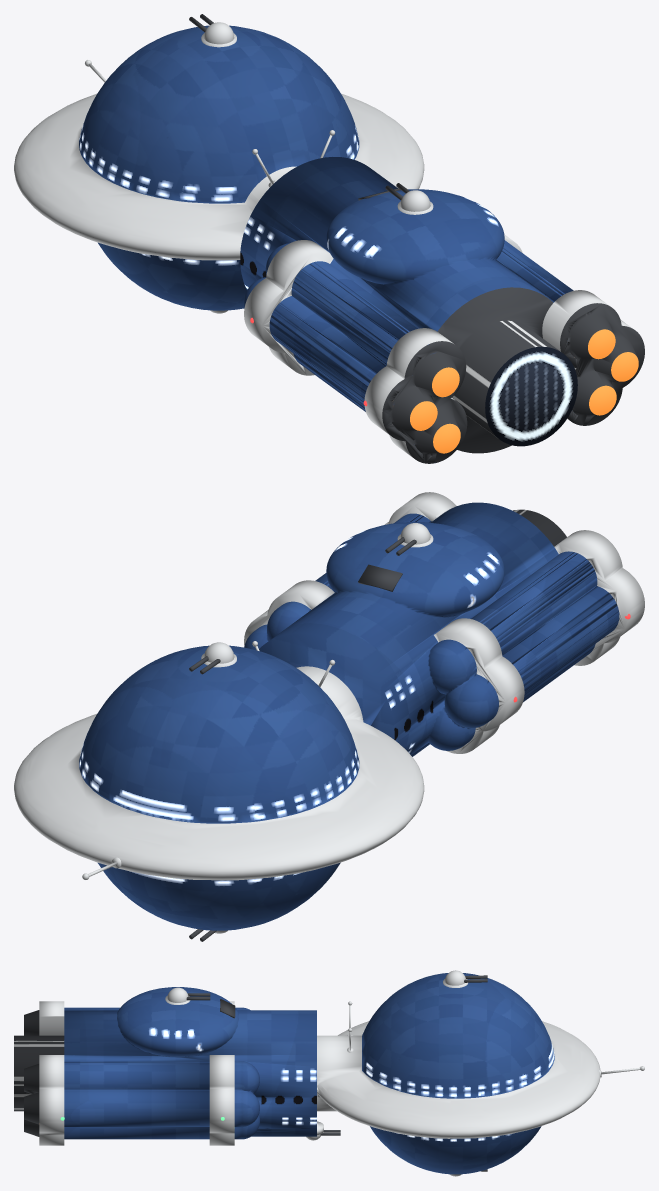
File: earth_battleship.glb
The picture shows the model from 3 angles, top to bottom: view 1: azimuth 30°, elevation 25°; view 2: azimuth 150°, elevation 25°; view 3: azimuth 270°, elevation 25°; orthographic projection. The views are drawn at different scales.
Parts seen in each view (by area): view 1: EarthBattleship; view 2: EarthBattleship; view 3: EarthBattleship.
Part boxes in pixels (x1,y1,x2,y2): EarthBattleship: (14,14,644,463); EarthBattleship: (14,492,644,941); EarthBattleship: (14,970,644,1176).
Bounding box in the file's own units: 23 × 17.86 × 50.01.
Materials: 1 (1 with a texture image).
